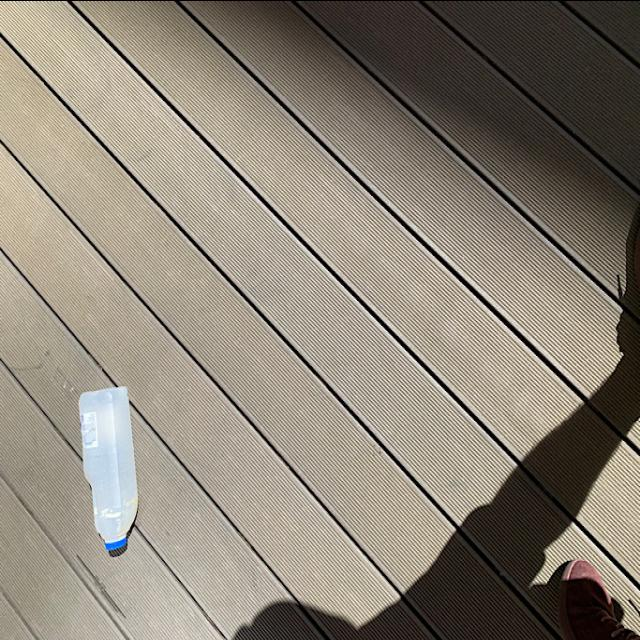HDPEM: (72, 380, 142, 558)
